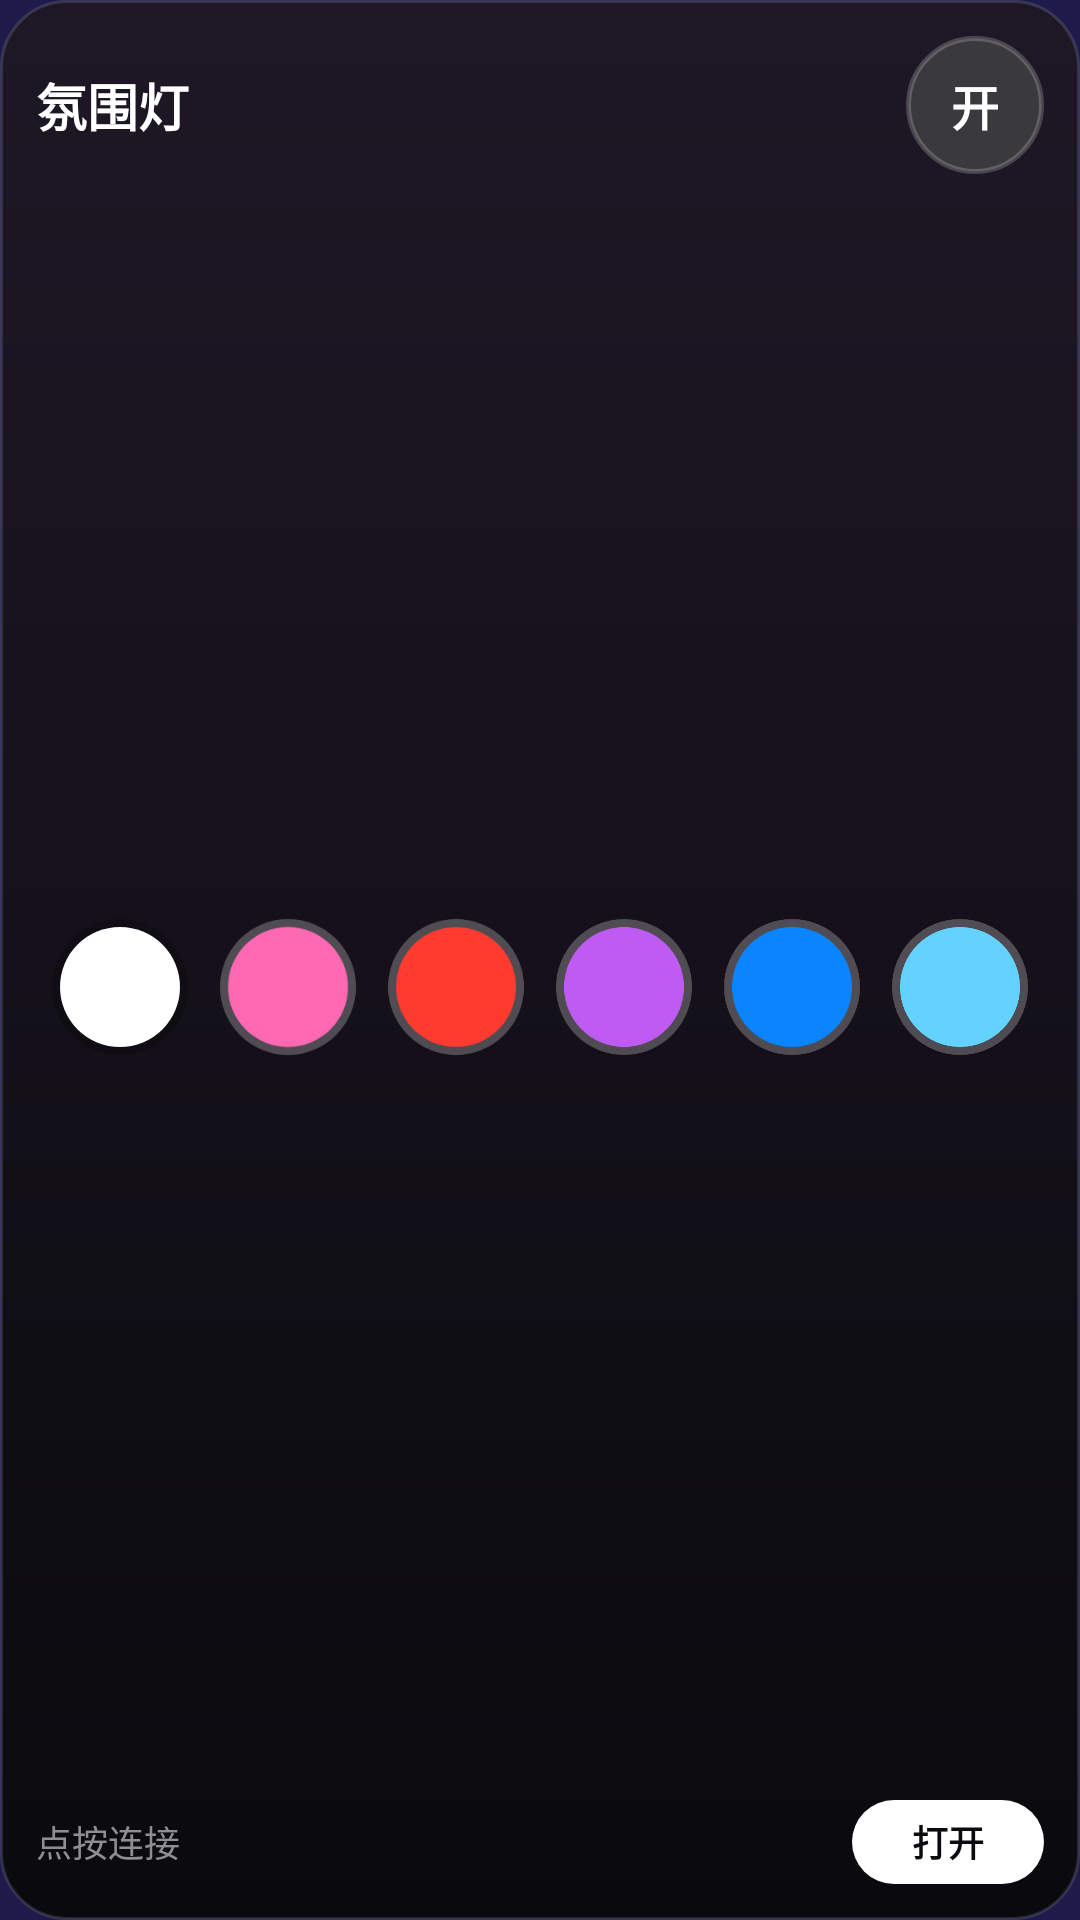

Point at icon controls on the screen. Image size 1080×1920, points as (x=x, y=y).
白光: (x=120, y=987)
粉色: (x=288, y=987)
紫色: (x=624, y=987)
红色: (x=456, y=987)
蓝色: (x=792, y=987)
青色: (x=960, y=987)
